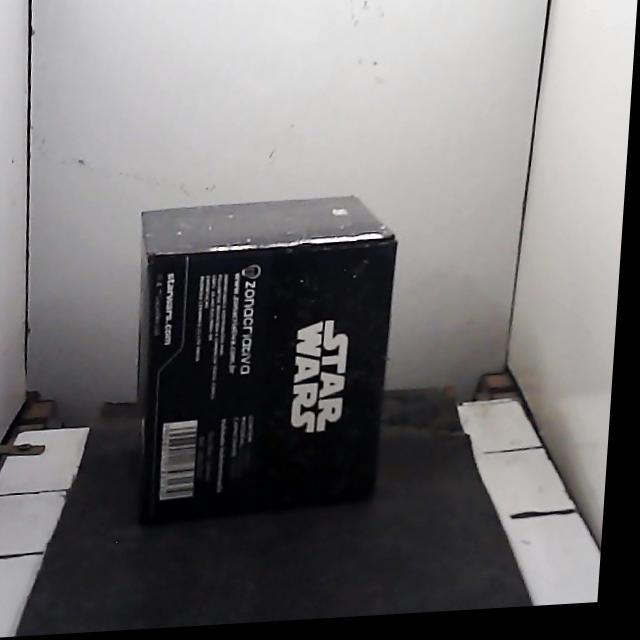papel: (138, 196, 396, 521)
